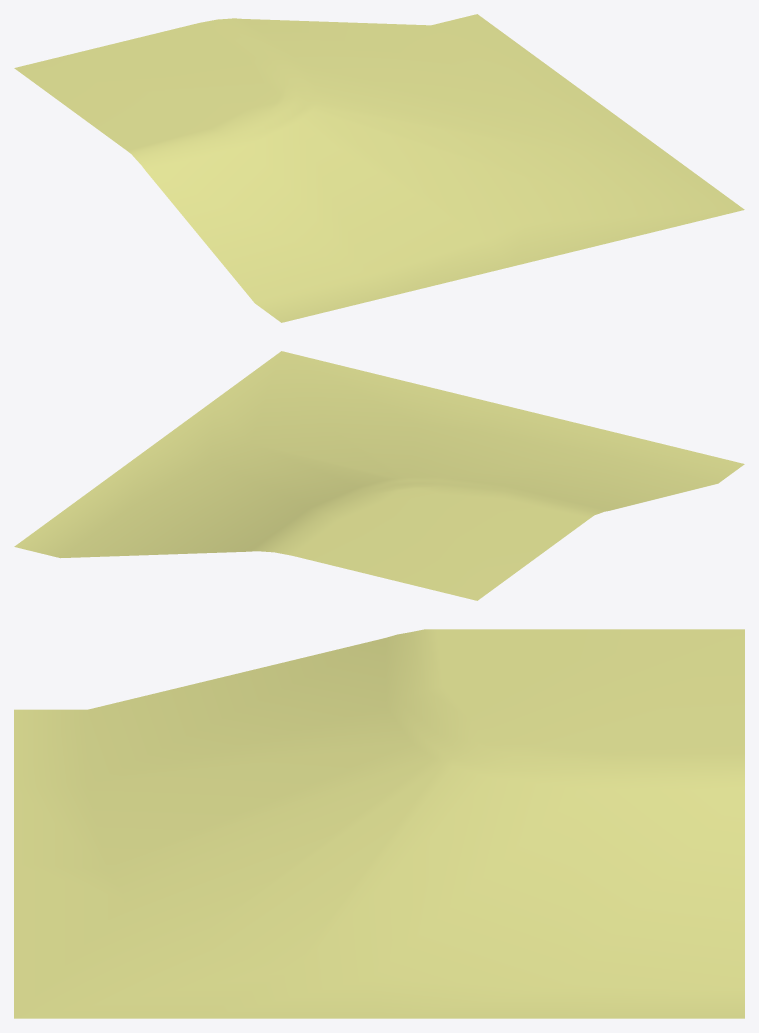
Rendered from sand_slope_outer_corner.fbx.
3 renders of one model, top to bottom at view 1: azimuth 30°, elevation 25°; view 2: azimuth 150°, elevation 25°; view 3: azimuth 270°, elevation 25°, orthographic. The views are drawn at different scales.
Visible parts, largest first — view 1: Cube.065; view 2: Cube.065; view 3: Cube.065.
Part boxes in pixels (x1,y1,x2,y2): Cube.065: [14, 14, 744, 322]; Cube.065: [14, 351, 744, 600]; Cube.065: [14, 629, 744, 1018].
Bounding box in the file's own units: 200 × 200 × 24.32.
